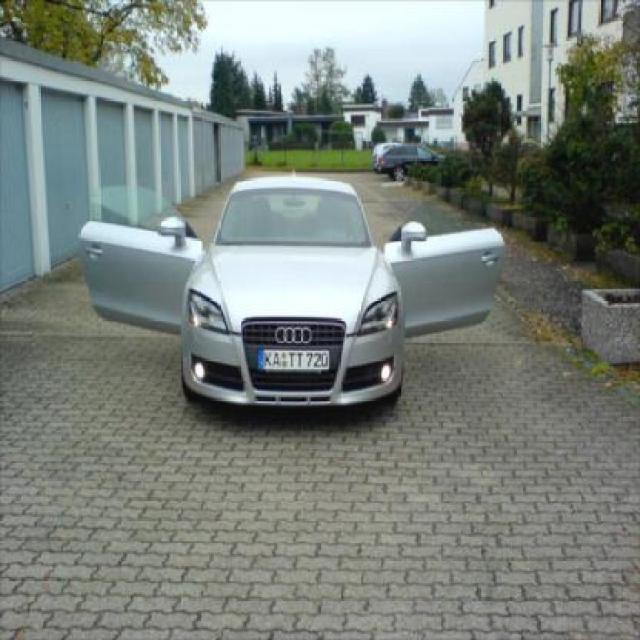License-Plates: (253, 346, 341, 377)
